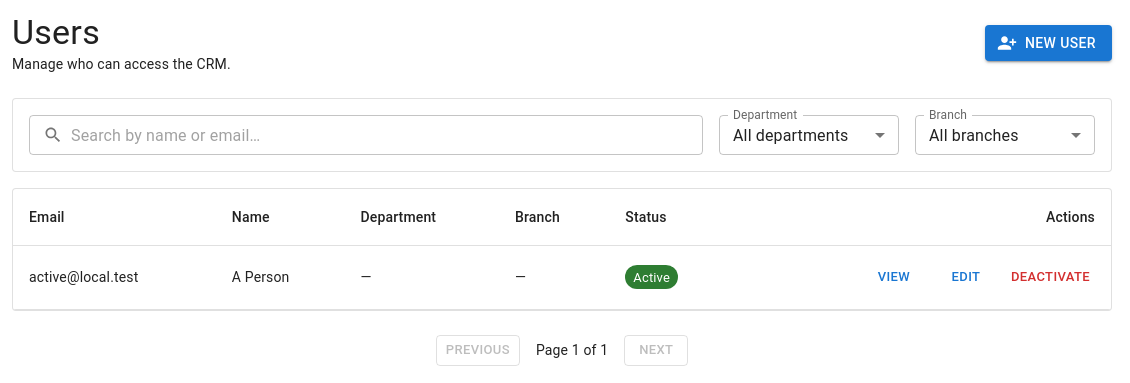
UsersListPage › toggles a user's active status
Expected: the text "active@local.test" is shown, [13,246,216,309]
Step 1. Click the button "Deactivate" → point(1050, 277), box [1006,262,1095,293]
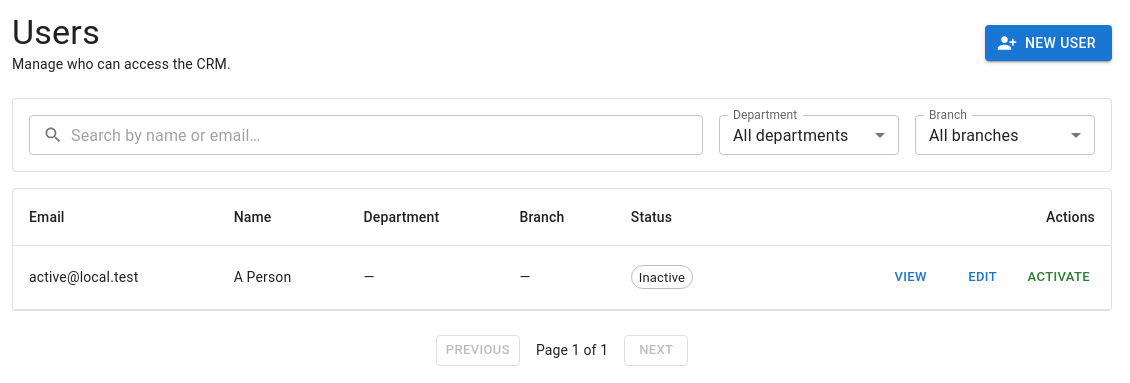
Expected: the text "Inactive" is shown, [639,270,685,285]
